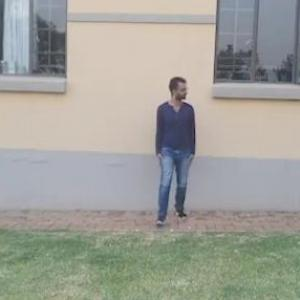follow: (155, 74, 198, 222)
